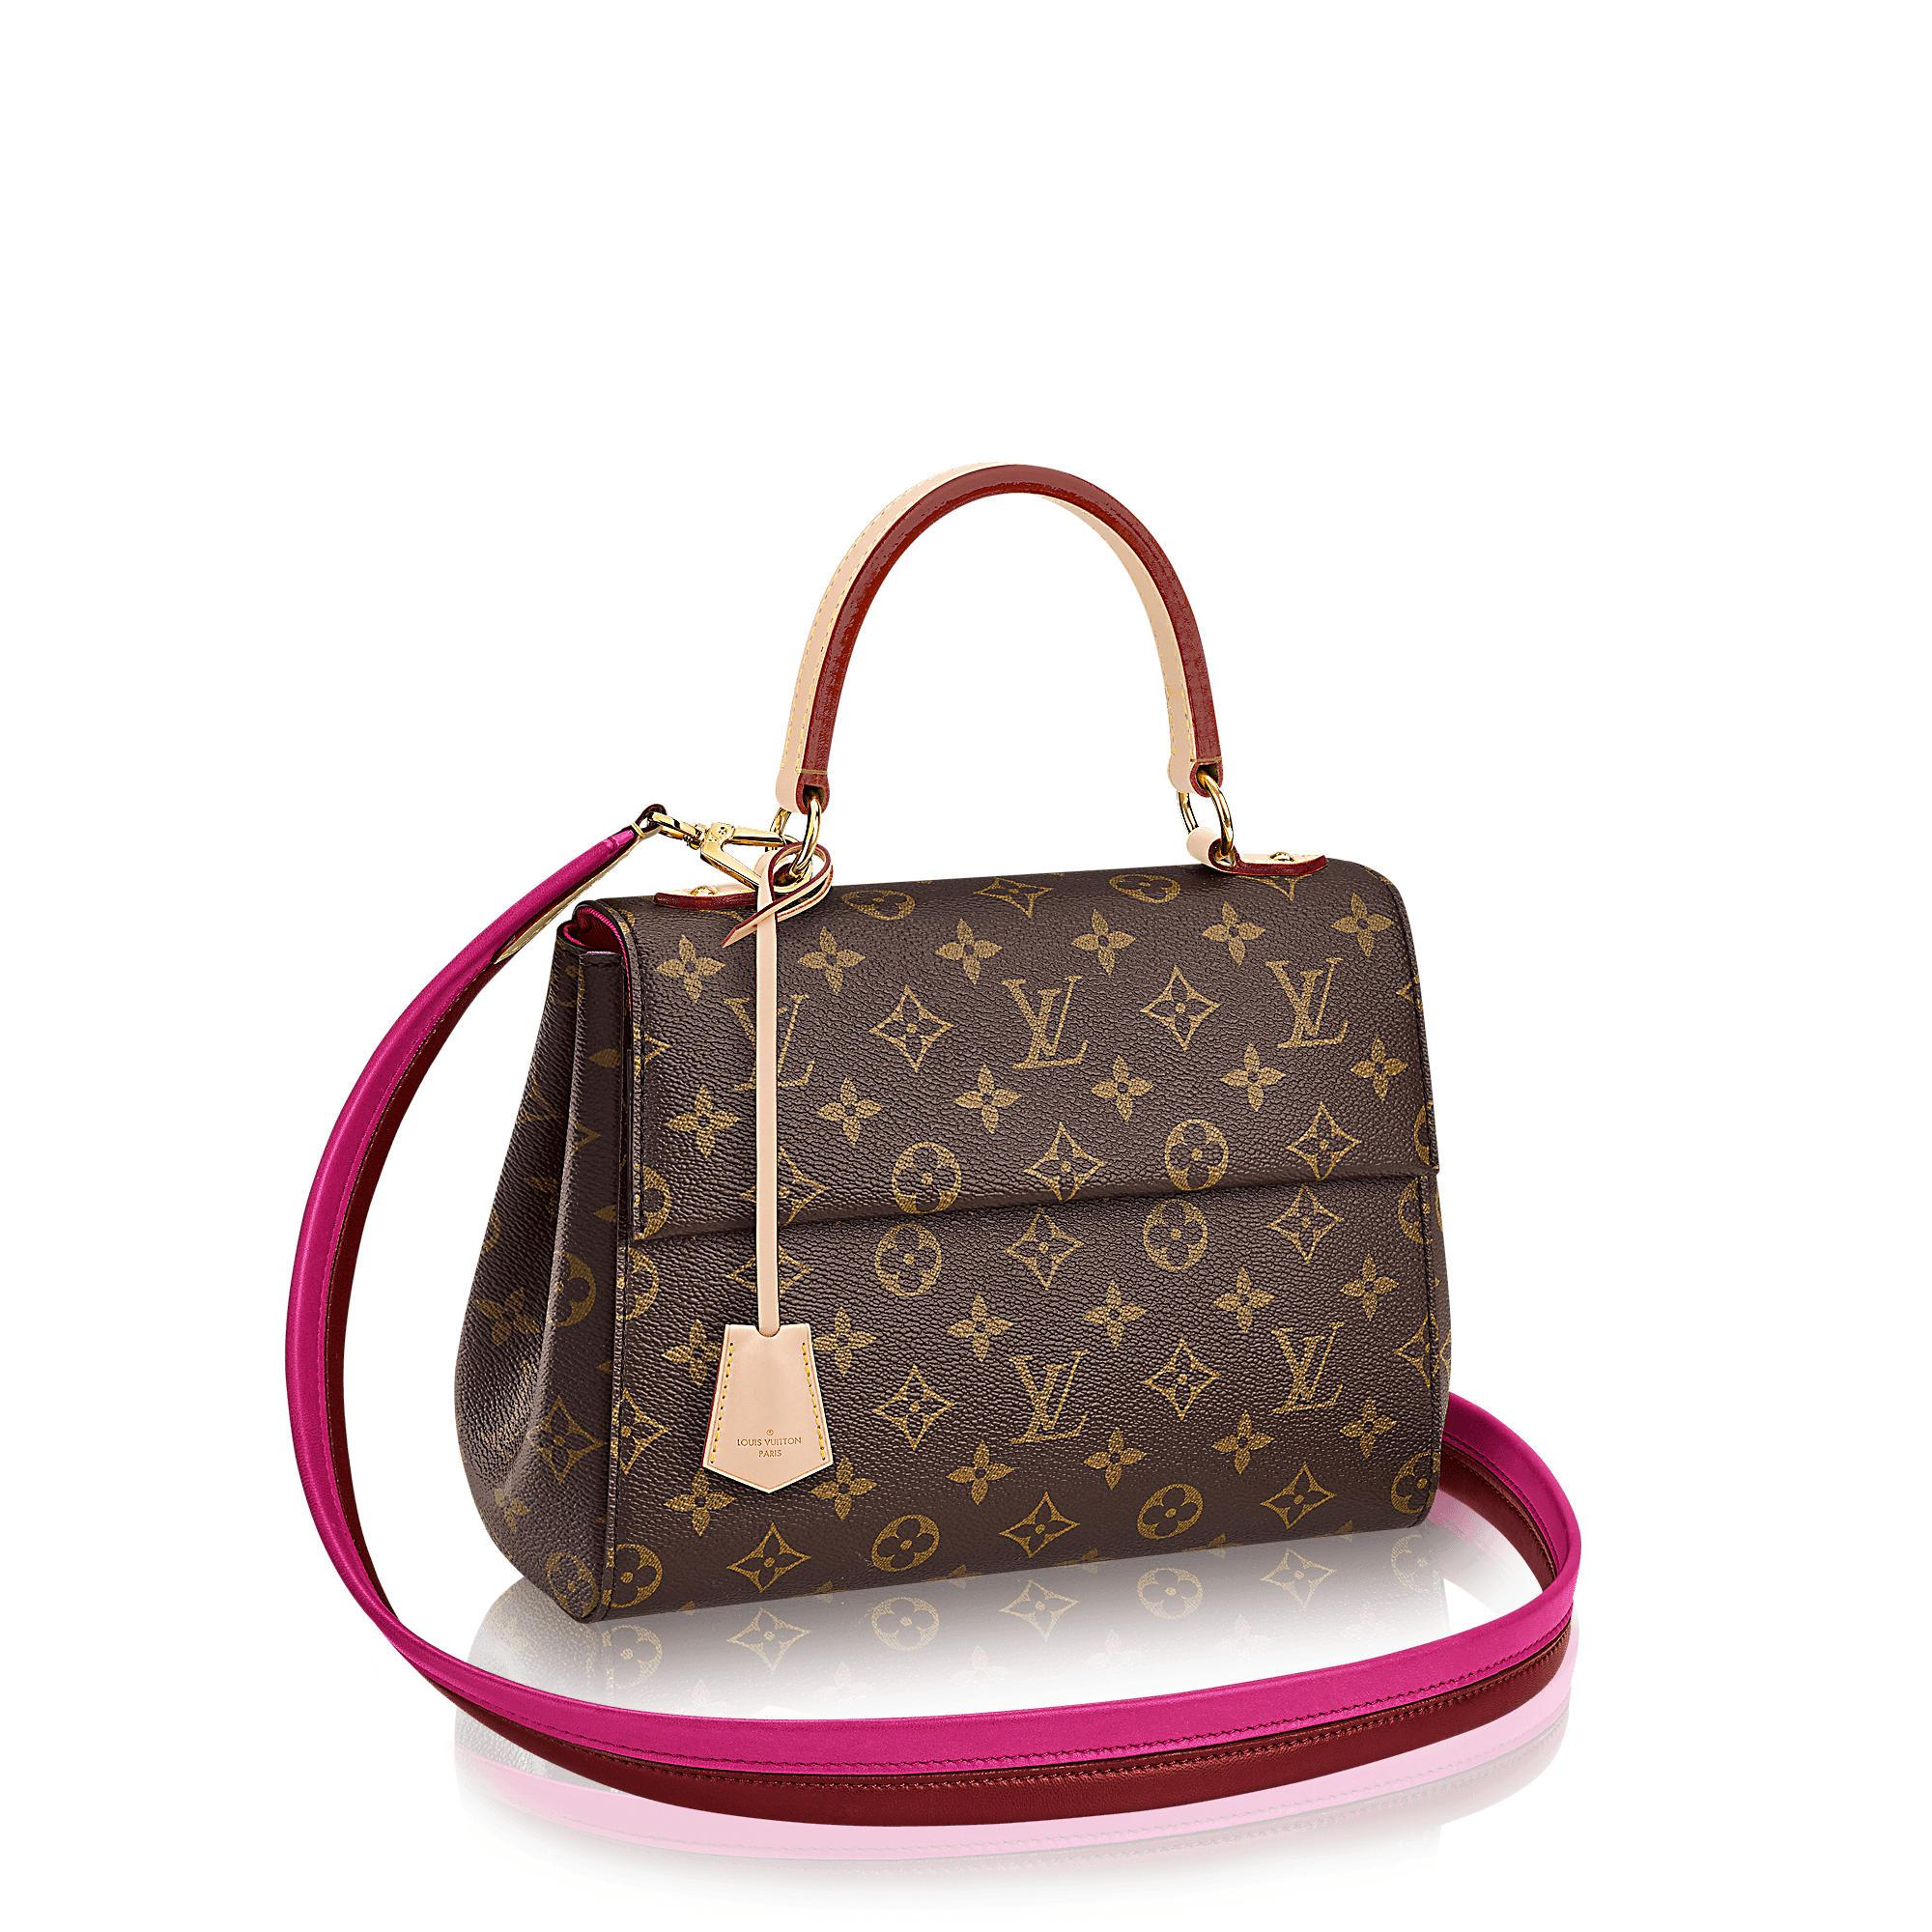LOUIS-VUITTON: (991, 970, 1093, 1072), (720, 989, 817, 1090), (1000, 1350, 1088, 1449), (1261, 957, 1348, 1053), (1263, 1320, 1350, 1415)
